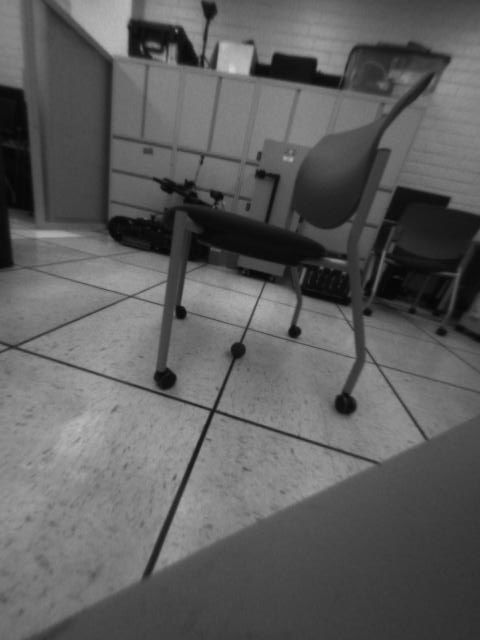dogtoy: (222, 335, 258, 364)
